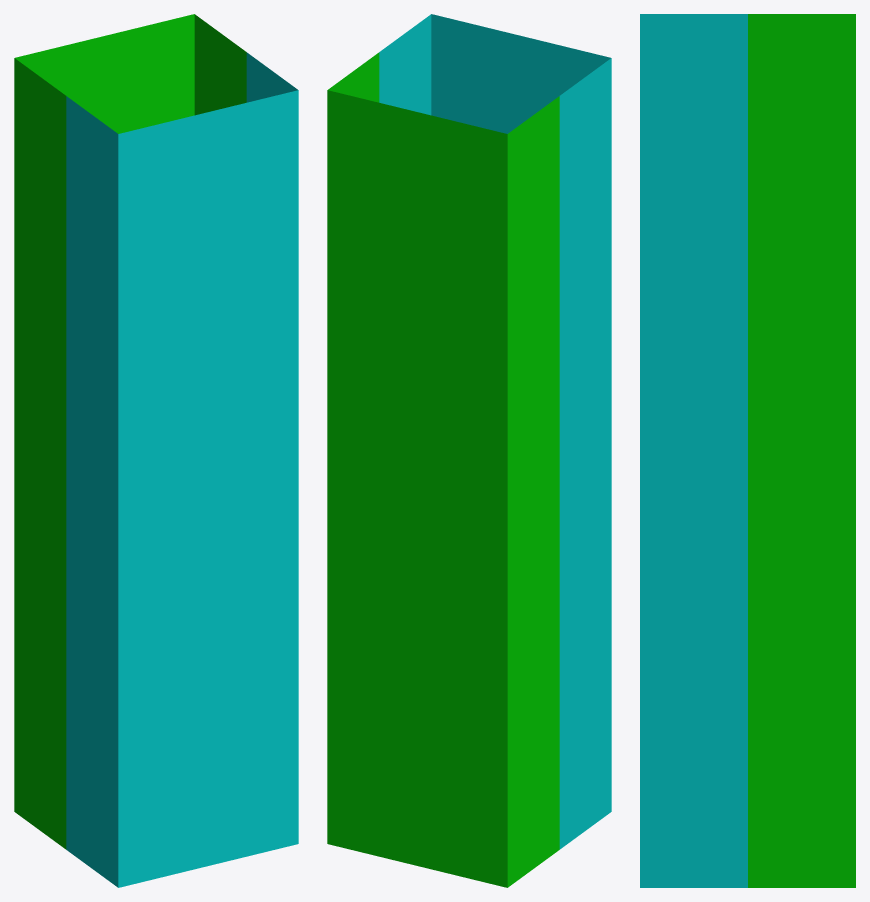
File: Colonna.fbx
3 renders of one model, left to right at view 1: azimuth 30°, elevation 25°; view 2: azimuth 150°, elevation 25°; view 3: azimuth 270°, elevation 25°, orthographic. The views are drawn at different scales.
Parts seen in each view (by area): view 1: Colonna; view 2: Colonna; view 3: Colonna.
Part boxes in pixels (x1=…): Colonna: x1=14, y1=14, x2=298, y2=887; Colonna: x1=327, y1=14, x2=611, y2=887; Colonna: x1=640, y1=14, x2=855, y2=887.
Size of the model in its own units: 100 by 400 by 100.
